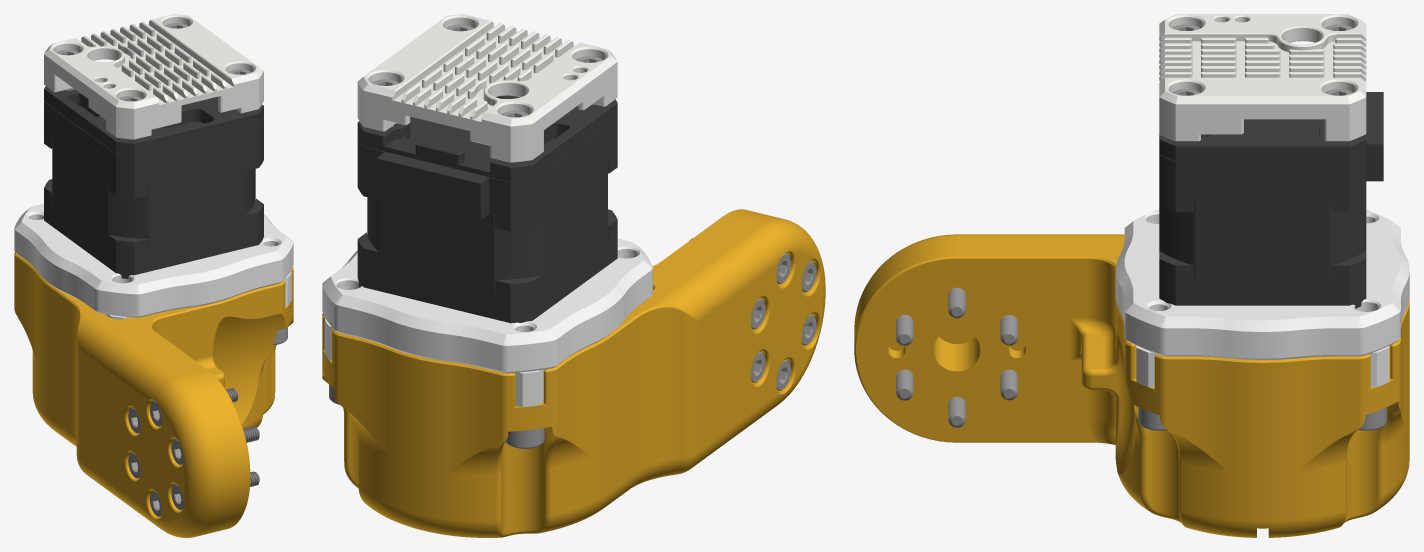
3 views of the same model, side by side, from view 1: azimuth 30°, elevation 25°; view 2: azimuth 150°, elevation 25°; view 3: azimuth 270°, elevation 25° (orthographic). The views are drawn at different scales.
Visible parts, largest first — view 1: J4_2; view 2: J4_2; view 3: J4_2.
Boxes of the visible parts, x1,y1,x2,y2 form: J4_2: (14,14,293,537); J4_2: (322,14,825,537); J4_2: (854,14,1409,537).
Bounding box in the file's own units: 0.055 × 0.0945 × 0.0808.
